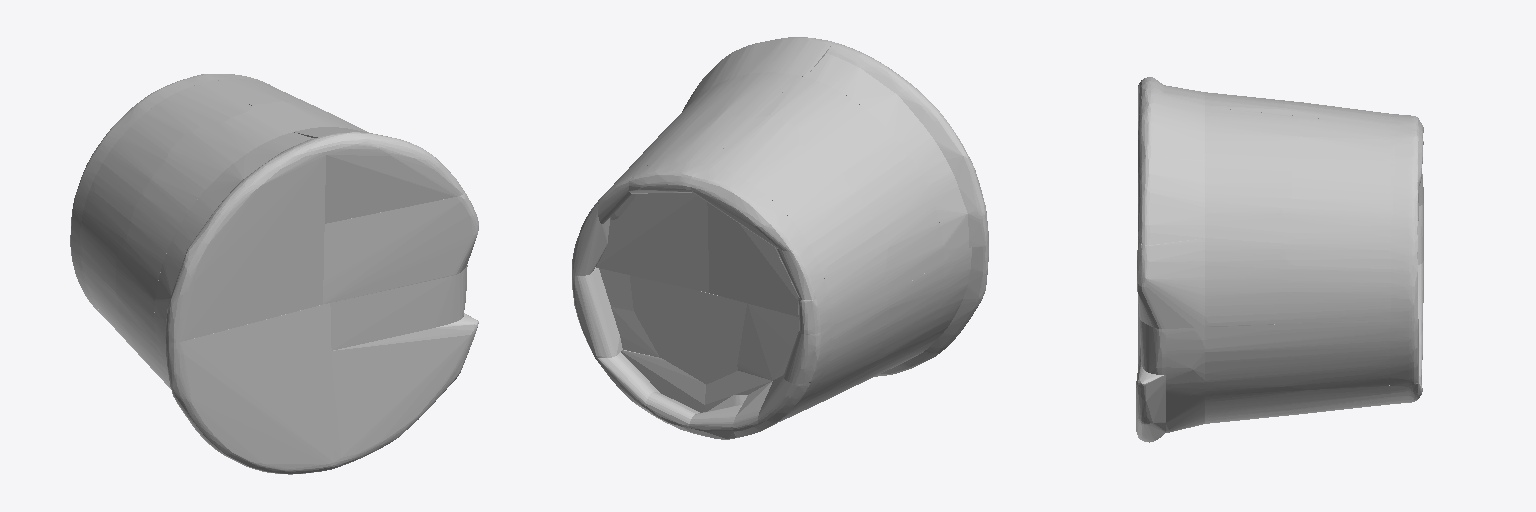
The model's file is coacd_collision.obj.
3 renders of one model, left to right at view 1: azimuth 30°, elevation 25°; view 2: azimuth 150°, elevation 25°; view 3: azimuth 270°, elevation 25°, orthographic.
Visible parts, largest first — view 1: geometry_7, geometry_9, geometry_3, geometry_12, geometry_5, geometry_4, geometry_11, geometry_2, geometry_0, geometry_8, geometry_10, geometry_18; view 2: geometry_9, geometry_0, geometry_8, geometry_2, geometry_3, geometry_10, geometry_4, geometry_20, geometry_16, geometry_7, geometry_19, geometry_6 (+14 smaller); view 3: geometry_8, geometry_0, geometry_4, geometry_5, geometry_1, geometry_9, geometry_21, geometry_12, geometry_16, geometry_17, geometry_11, geometry_25 (+1 smaller).
Boxes of the visible parts, <box> form: geometry_7: <box>165,303,333,474</box>; geometry_9: <box>80,83,297,315</box>; geometry_3: <box>165,138,325,342</box>; geometry_12: <box>332,313,478,468</box>; geometry_5: <box>323,193,478,303</box>; geometry_4: <box>294,127,464,223</box>; geometry_11: <box>330,265,467,350</box>; geometry_2: <box>154,132,313,327</box>; geometry_0: <box>82,246,170,388</box>; geometry_8: <box>207,80,368,132</box>; geometry_10: <box>94,77,204,160</box>; geometry_18: <box>74,153,102,209</box>; geometry_9: <box>707,76,943,325</box>; geometry_0: <box>630,262,943,419</box>; geometry_8: <box>596,72,799,292</box>; geometry_2: <box>806,53,968,261</box>; geometry_3: <box>827,43,988,247</box>; geometry_10: <box>691,165,807,251</box>; geometry_4: <box>683,37,834,110</box>; geometry_20: <box>737,303,834,390</box>; geometry_16: <box>572,267,622,357</box>; geometry_7: <box>875,244,988,376</box>; geometry_19: <box>621,350,705,412</box>; geometry_6: <box>890,247,971,368</box>; geometry_8: <box>1205,107,1390,326</box>; geometry_0: <box>1205,320,1387,423</box>; geometry_4: <box>1138,91,1204,245</box>; geometry_5: <box>1137,238,1204,328</box>; geometry_1: <box>1166,327,1204,432</box>; geometry_9: <box>1205,92,1391,126</box>; geometry_21: <box>1391,220,1417,318</box>; geometry_12: <box>1136,348,1165,442</box>; geometry_16: <box>1390,317,1418,384</box>; geometry_17: <box>1395,128,1423,185</box>; geometry_11: <box>1140,320,1165,374</box>; geometry_25: <box>1393,178,1418,227</box>.
Size of the model in its own units: 135 by 139 by 109.